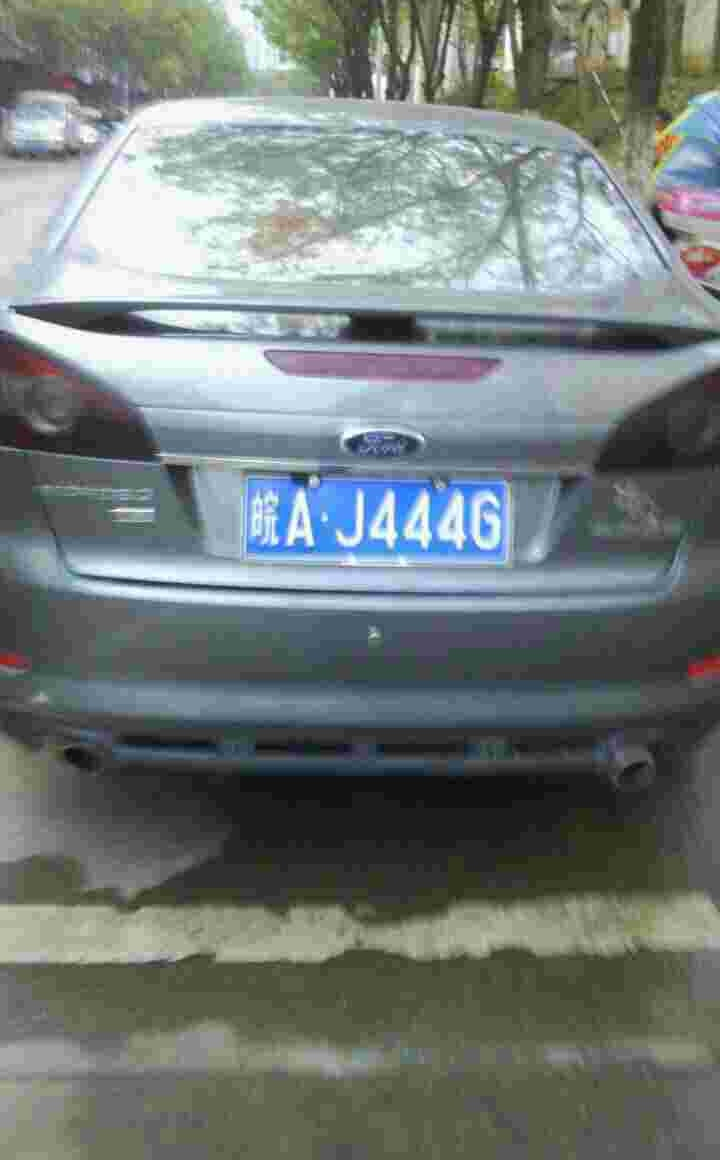car: (239, 471, 514, 563)
